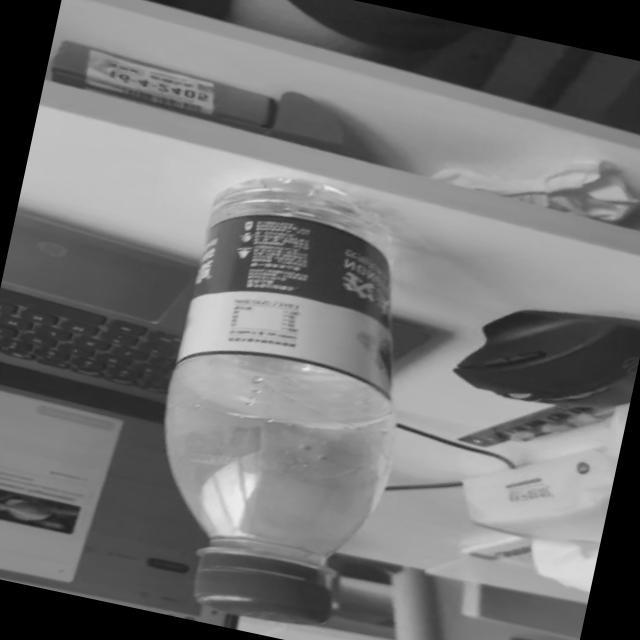good: (122, 153, 450, 640)
